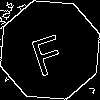F: (25, 25, 69, 78)
